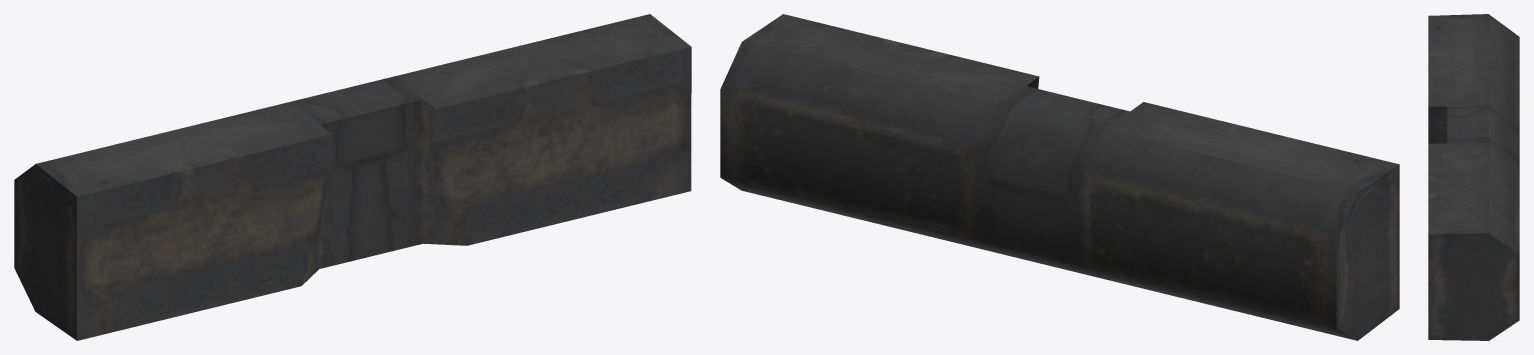
The picture shows the model from 3 angles, left to right: view 1: azimuth 30°, elevation 25°; view 2: azimuth 150°, elevation 25°; view 3: azimuth 270°, elevation 25°; orthographic projection. The views are drawn at different scales.
Visible parts, largest first — view 1: set_0_group_0; view 2: set_0_group_0; view 3: set_0_group_0.
Part boxes in pixels (box(x1,y1,x2,y2)): set_0_group_0: box(14, 14, 691, 340); set_0_group_0: box(720, 14, 1399, 340); set_0_group_0: box(1428, 14, 1519, 340).
Bounding box in the file's own units: 0.5711 × 0.1316 × 0.1009.
Materials: 1 (1 with a texture image).
